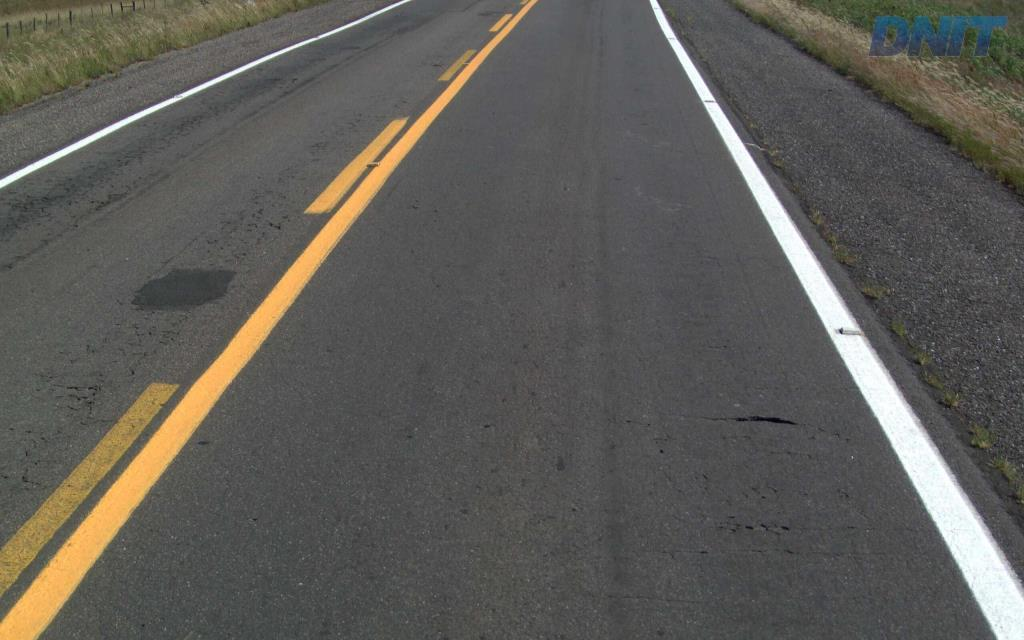crack: (711, 415, 798, 425)
